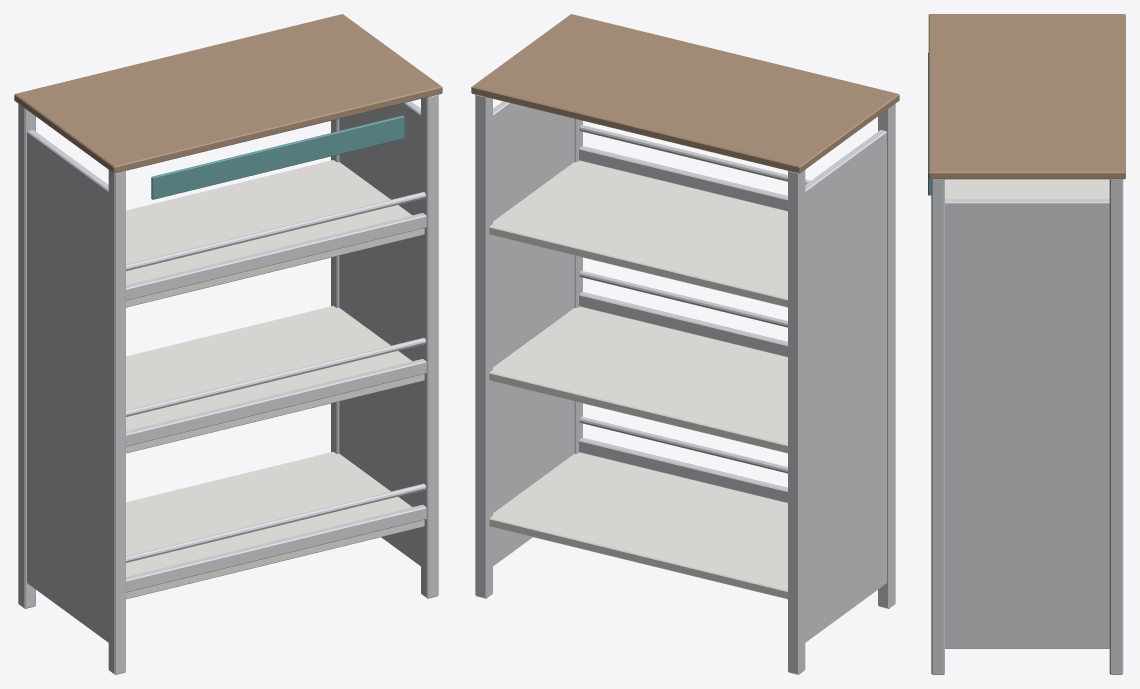
The model's file is hotel-and-resort-operations-luggage-store-rack-1a29b9a6__25863.glb.
The picture shows the model from 3 angles, left to right: view 1: azimuth 30°, elevation 25°; view 2: azimuth 150°, elevation 25°; view 3: azimuth 270°, elevation 25°; orthographic projection.
Parts seen in each view (by area): view 1: luggage-store-rack; view 2: luggage-store-rack; view 3: luggage-store-rack.
Boxes of the visible parts, x1,y1,x2,y2 form: luggage-store-rack: (14,14,442,674); luggage-store-rack: (471,14,899,674); luggage-store-rack: (928,14,1125,674).
Bounding box in the file's own units: 1.37 × 2.03 × 0.7221.
